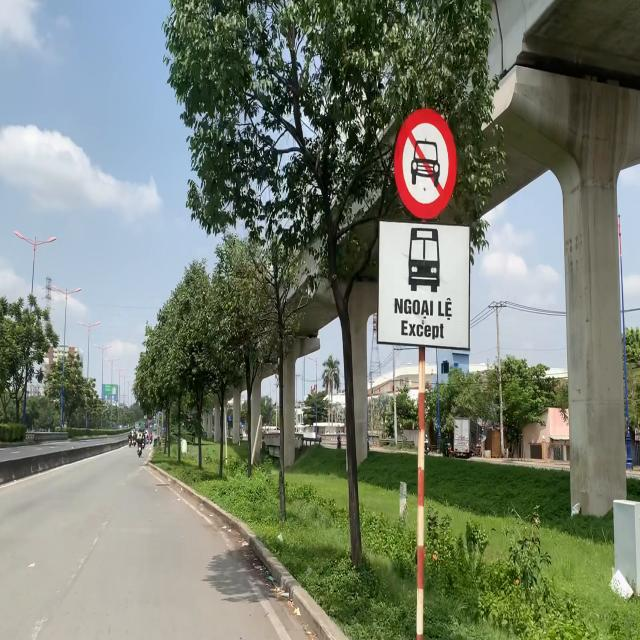Cam con lai: (392, 107, 459, 221)
